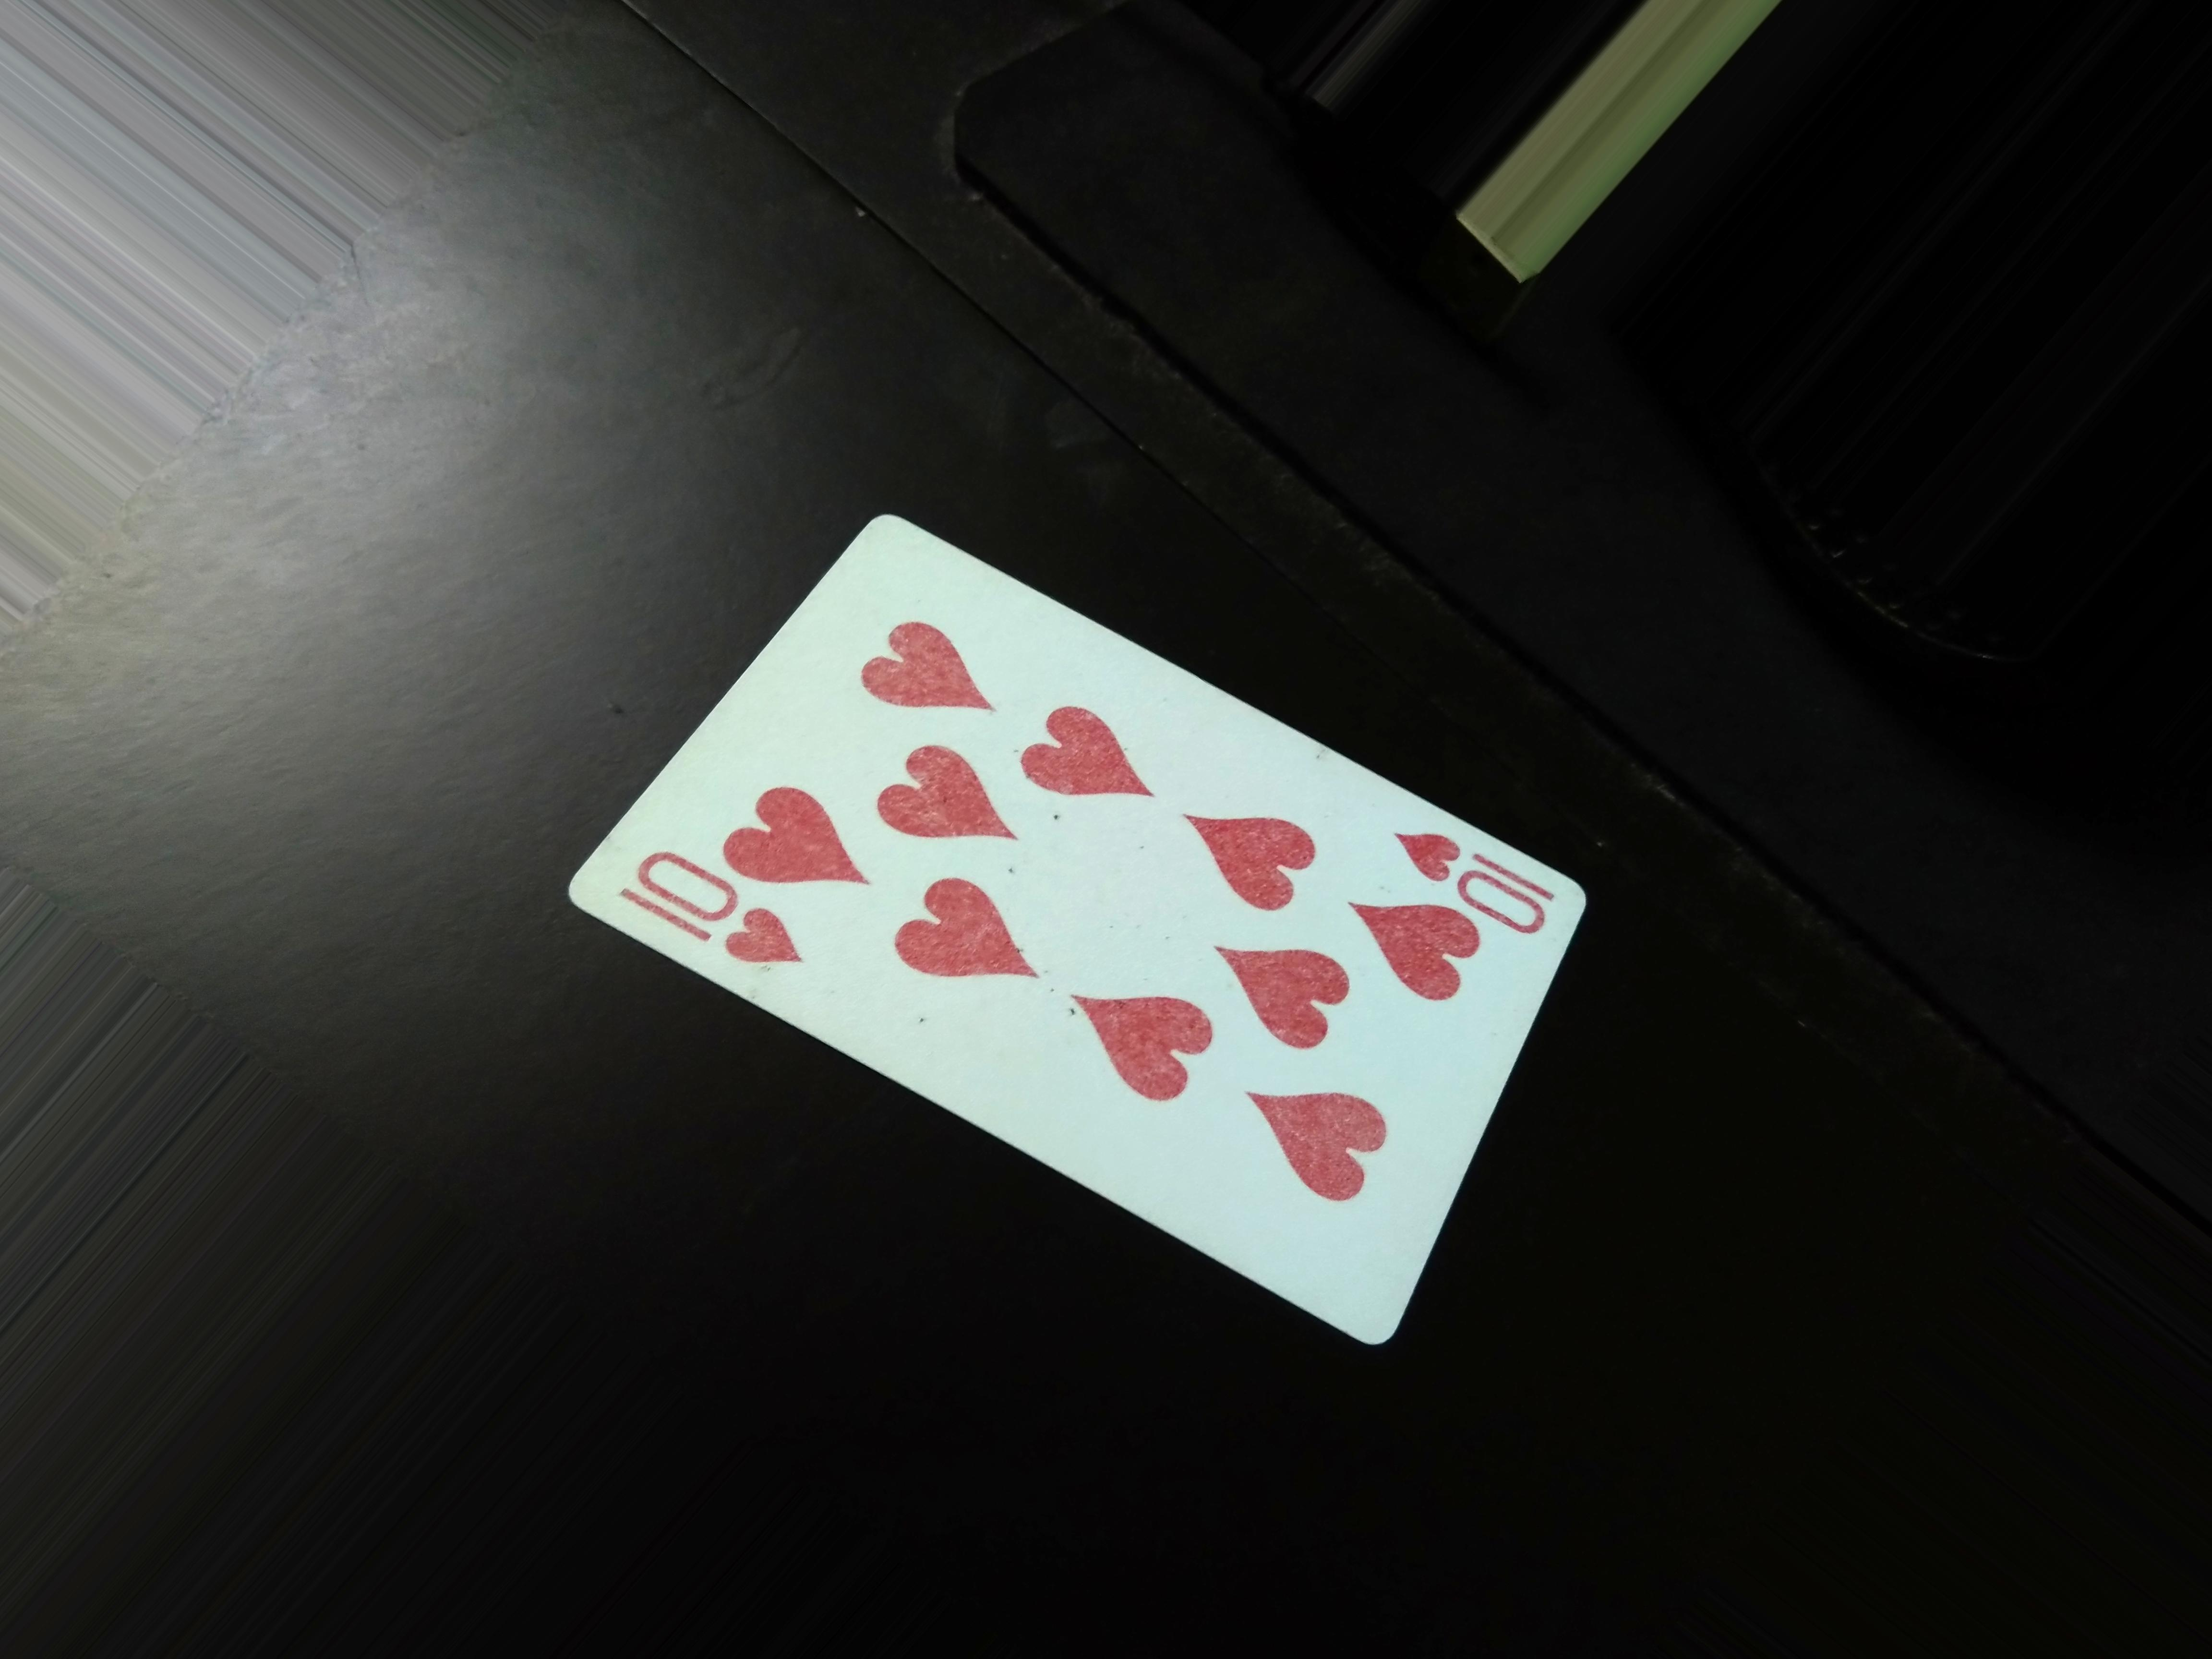10H: (611, 854, 803, 992)
